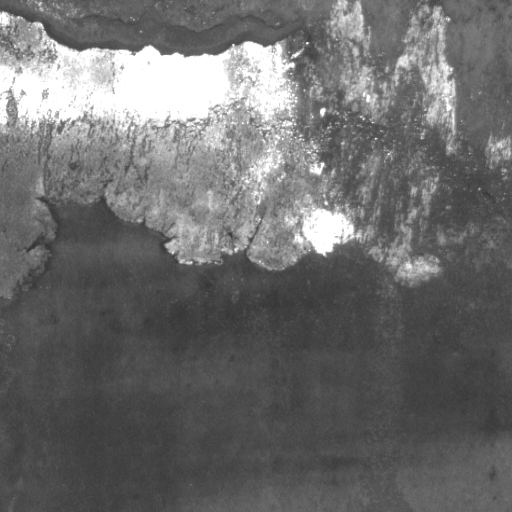qiaopi: (1, 1, 461, 308)
